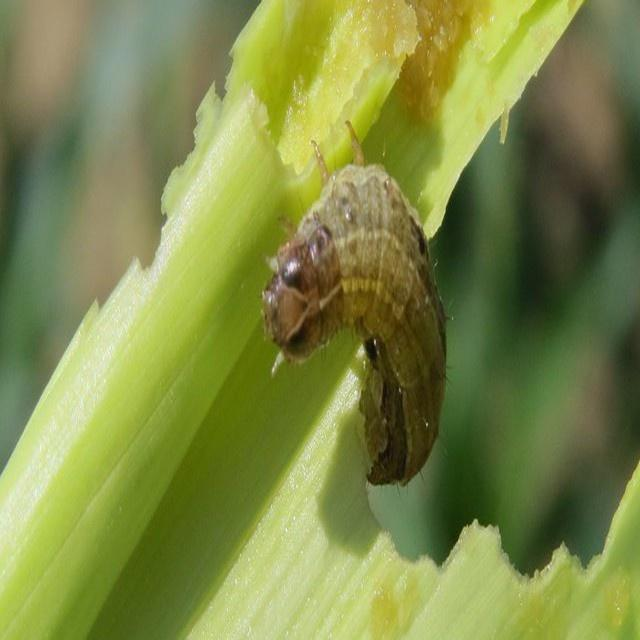gusano_cogollero: (262, 175, 448, 487)
